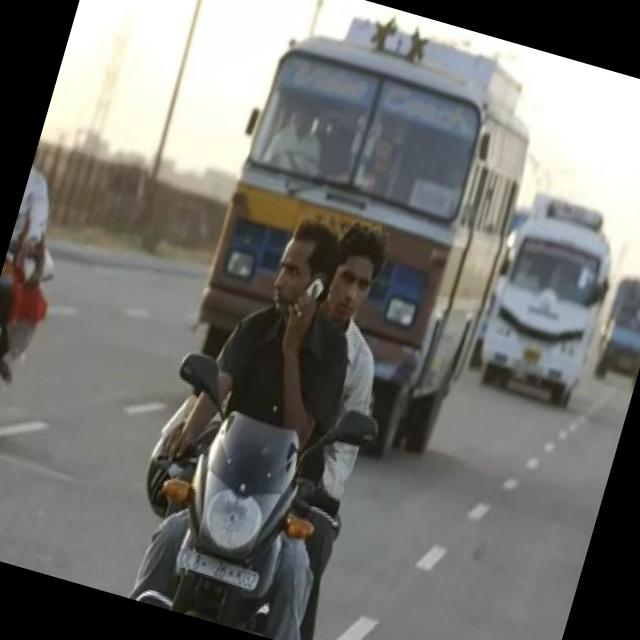bareface: (264, 207, 354, 333), (325, 218, 390, 328)
